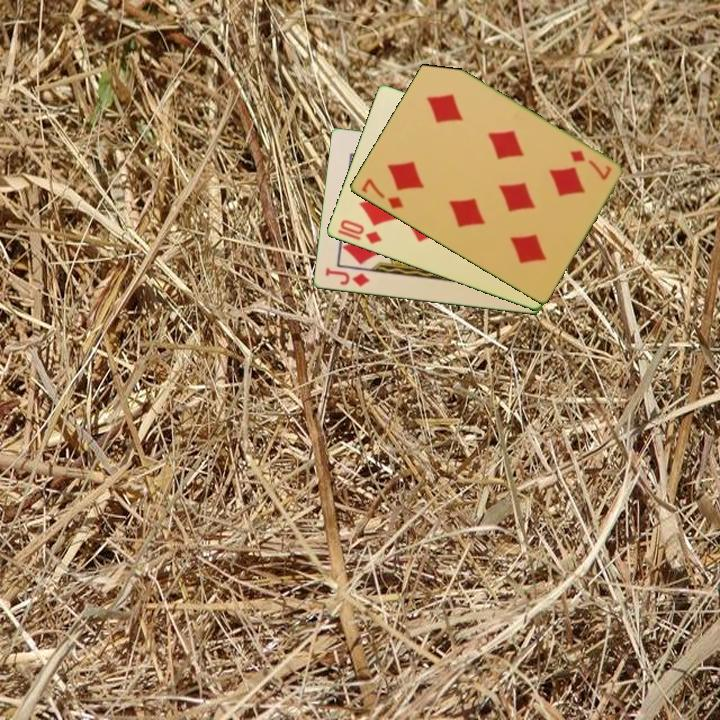10d: (334, 216, 384, 247)
7d: (358, 175, 406, 212), (566, 147, 614, 183)
Jd: (322, 264, 372, 289)
